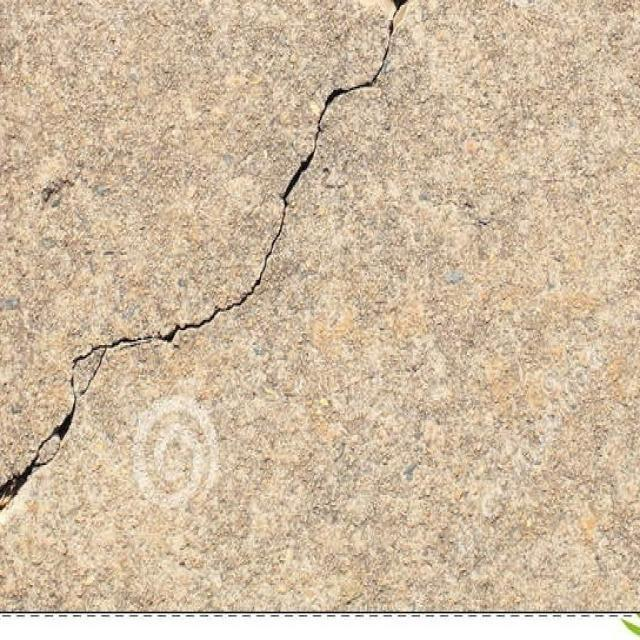Annular: (4, 413, 98, 504), (55, 334, 114, 412)
Diagonal: (117, 0, 413, 358)
